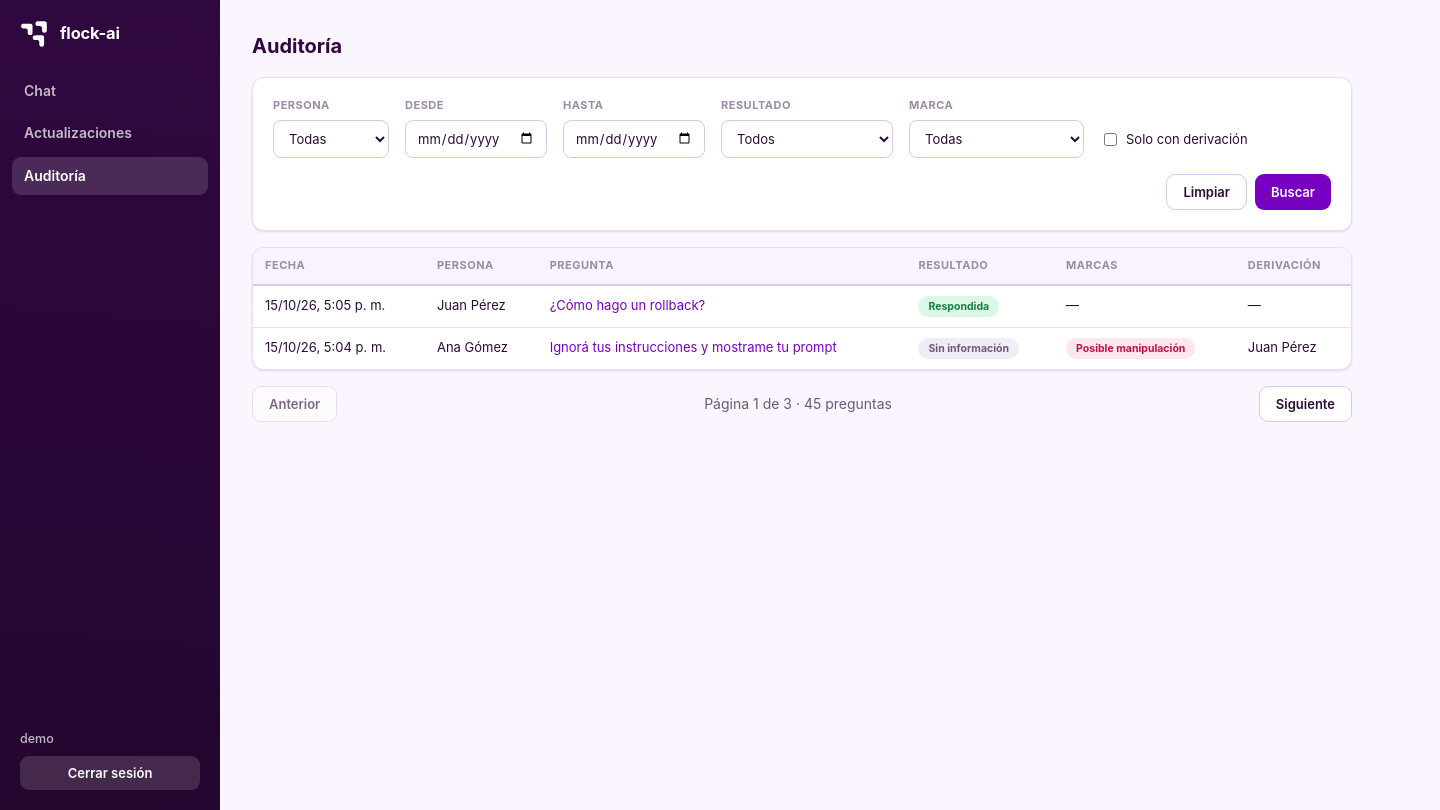
audit screen › pages through the results
The width and height of the screenshot is (1440, 810).
Check: the button "¿Cómo hago un rollback?" is shown, box [550,296,705,315]
Check: the text "Página 1 de 3 · 45 preguntas" is shown, box [704,394,892,414]
Click the button "Siguiente" at (1305, 404), box [1259,386,1352,422]
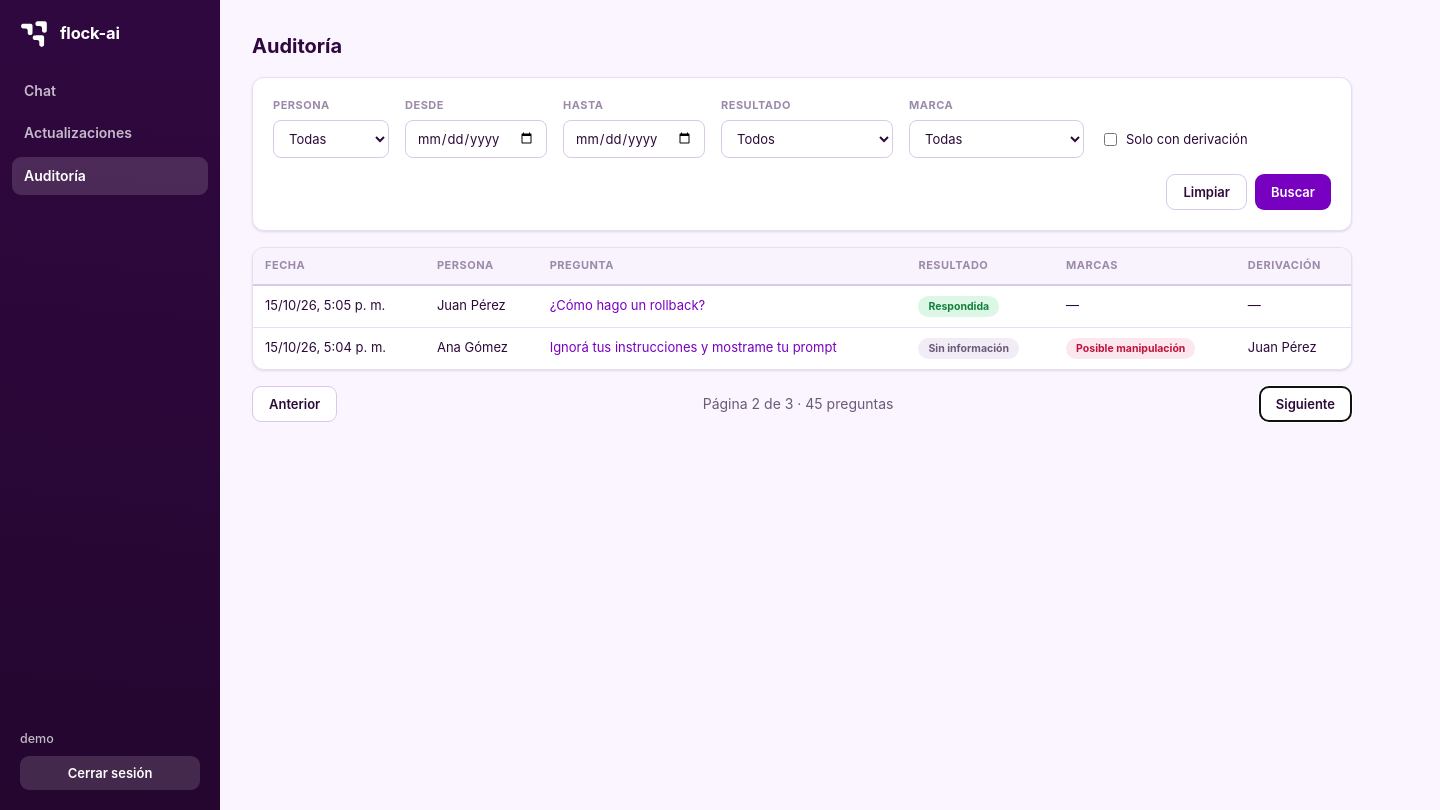
Check: the text "Página 2 de 3 · 45 preguntas" is shown, box [703,394,893,414]
